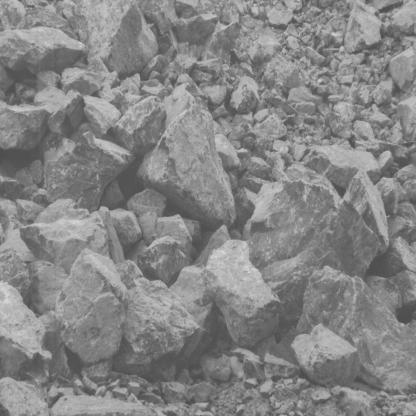stone: (247, 181, 377, 320), (299, 267, 416, 390), (139, 86, 237, 219), (116, 263, 206, 363), (205, 240, 284, 342), (44, 130, 133, 213), (58, 253, 125, 361), (20, 220, 110, 273), (63, 0, 135, 62), (0, 280, 53, 361), (291, 326, 359, 389), (104, 2, 156, 79), (0, 27, 85, 73), (343, 173, 389, 255), (303, 147, 378, 190), (21, 211, 104, 247), (137, 236, 193, 286), (116, 100, 166, 156), (171, 265, 213, 325), (0, 197, 38, 262), (0, 339, 50, 387), (25, 260, 67, 317), (0, 106, 51, 151), (50, 396, 160, 416), (285, 164, 341, 199), (16, 7, 78, 38), (216, 135, 250, 188), (139, 215, 191, 249), (86, 59, 126, 103), (1, 86, 66, 113), (347, 2, 382, 52), (79, 94, 120, 135), (0, 381, 47, 416), (204, 22, 241, 65), (0, 251, 33, 299), (251, 181, 288, 221), (194, 226, 231, 266), (99, 208, 125, 264), (175, 10, 220, 42), (39, 134, 74, 175), (136, 0, 178, 34), (51, 94, 84, 137), (388, 46, 416, 95), (33, 200, 90, 224), (368, 277, 402, 317), (263, 55, 294, 95), (126, 187, 166, 218), (385, 236, 416, 274), (352, 121, 388, 153), (112, 210, 141, 247), (230, 78, 259, 113), (395, 94, 416, 142), (62, 68, 105, 91), (390, 0, 416, 34), (13, 159, 43, 188), (254, 116, 288, 141), (0, 0, 26, 32), (233, 189, 257, 222), (175, 74, 205, 100), (21, 184, 53, 208), (15, 199, 45, 224), (375, 179, 396, 214), (142, 55, 169, 82), (386, 215, 416, 239), (372, 77, 395, 105), (237, 173, 269, 193), (102, 180, 124, 209), (66, 76, 99, 95), (194, 59, 224, 79), (171, 53, 198, 75), (287, 86, 318, 105), (201, 86, 227, 107), (333, 101, 357, 123), (247, 158, 273, 178), (244, 358, 264, 384), (274, 384, 301, 403), (304, 46, 327, 68), (368, 110, 394, 129), (36, 69, 60, 89), (220, 1, 240, 24), (121, 74, 141, 97), (0, 181, 21, 202), (265, 152, 294, 167), (141, 84, 165, 102), (268, 9, 293, 26), (375, 151, 393, 174), (393, 166, 415, 184), (325, 112, 342, 135), (183, 219, 200, 241), (397, 201, 416, 220), (359, 85, 374, 108), (294, 102, 317, 117), (232, 111, 254, 126), (174, 0, 198, 13), (402, 178, 416, 199), (398, 181, 411, 202), (273, 140, 292, 153), (330, 31, 344, 48), (253, 109, 268, 123)
